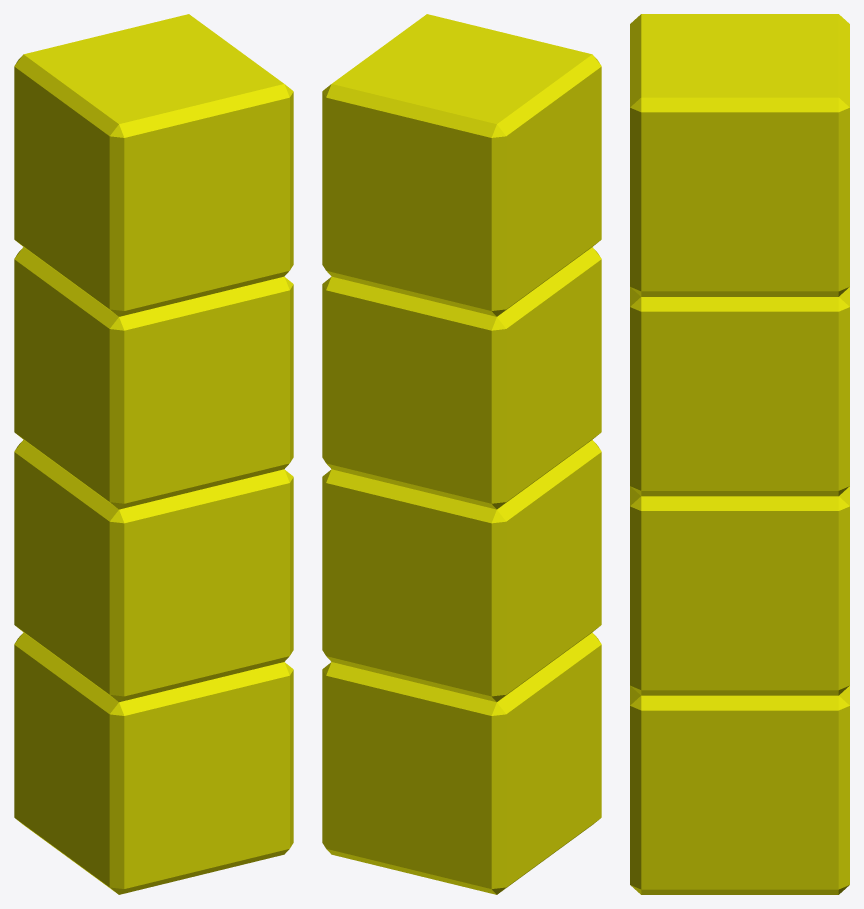
The model's file is TetrisI.glb.
3 views of the same model, side by side, from view 1: azimuth 30°, elevation 25°; view 2: azimuth 150°, elevation 25°; view 3: azimuth 270°, elevation 25° (orthographic). The views are drawn at different scales.
Parts seen in each view (by area): view 1: TetrisI; view 2: TetrisI; view 3: TetrisI.
Boxes of the visible parts, box(x1,y1,x2,y2) form: TetrisI: box(14, 14, 293, 894); TetrisI: box(322, 14, 601, 894); TetrisI: box(630, 14, 849, 894).
Bounding box in the file's own units: 1 × 4 × 1.
